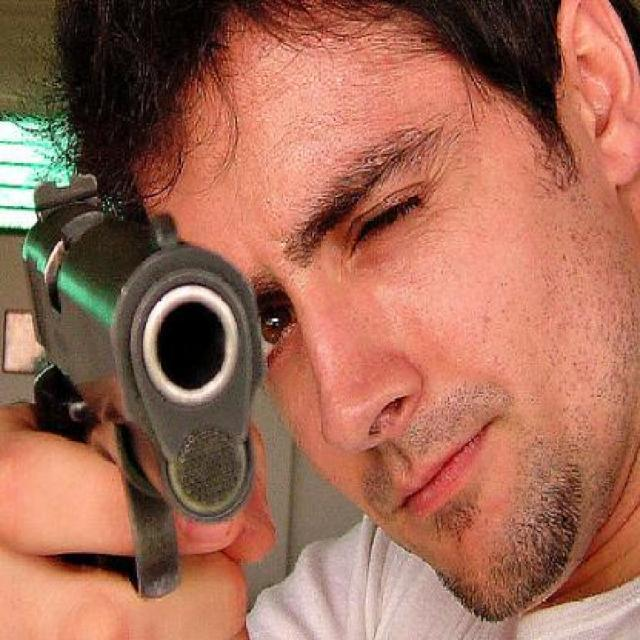gun: (20, 175, 254, 600)
